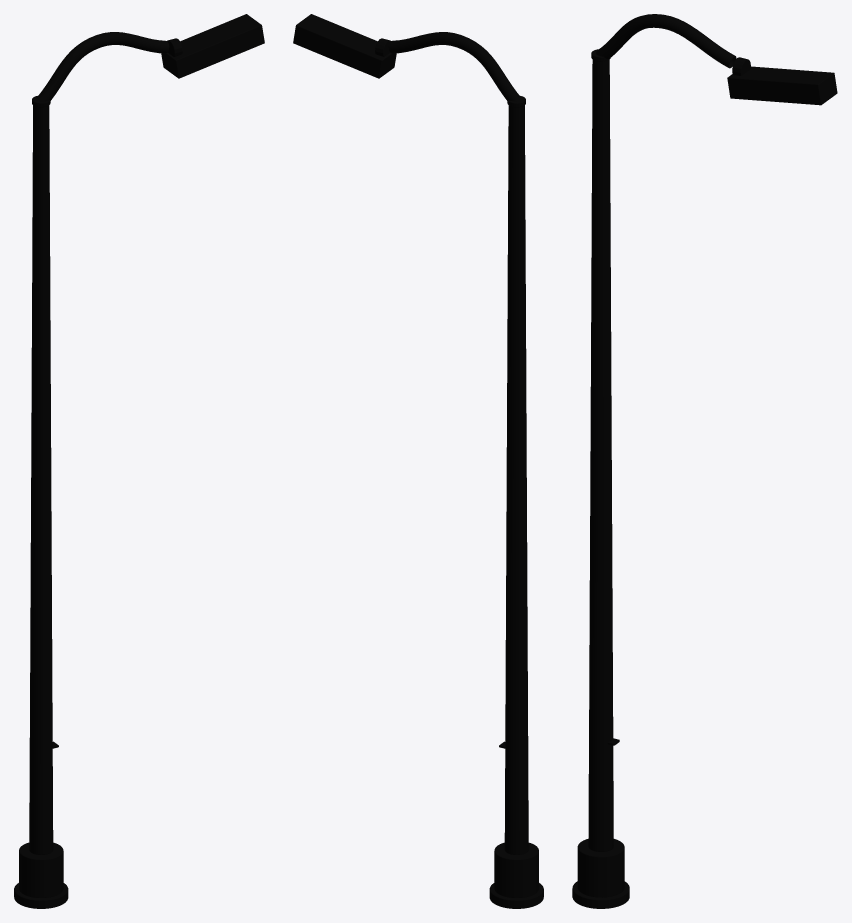
The model's file is streetlamp.glb.
The picture shows the model from 3 angles, left to right: view 1: azimuth 30°, elevation 25°; view 2: azimuth 150°, elevation 25°; view 3: azimuth 330°, elevation 25°; orthographic projection. The views are drawn at different scales.
Parts seen in each view (by area): view 1: StreetLamp; view 2: StreetLamp; view 3: StreetLamp.
Boxes of the visible parts, bbox=[...] form: StreetLamp: bbox=[14, 14, 264, 908]; StreetLamp: bbox=[293, 14, 543, 908]; StreetLamp: bbox=[572, 14, 837, 908].
Size of the model in its own units: 1.42 by 4.82 by 0.2799.
Materials: 2 (1 with a texture image).
